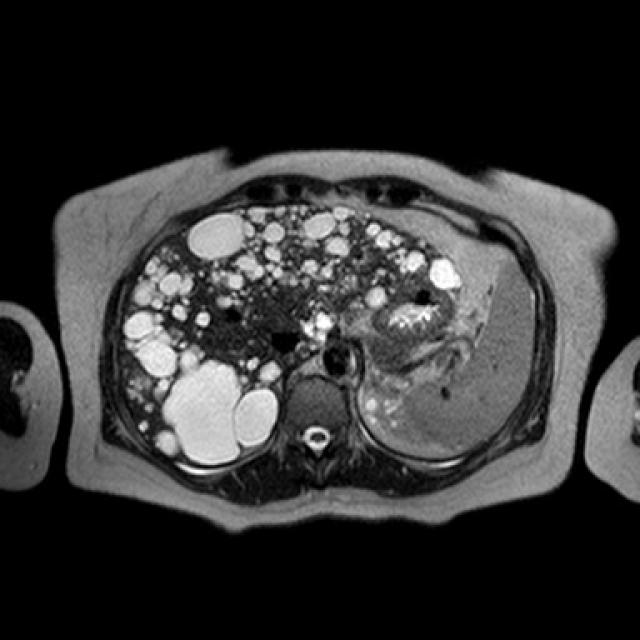sol: (362, 378, 434, 447)
